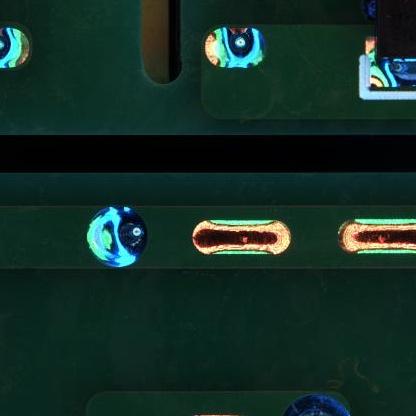spot: (85, 207, 149, 268), (204, 26, 268, 71), (1, 25, 31, 69)
